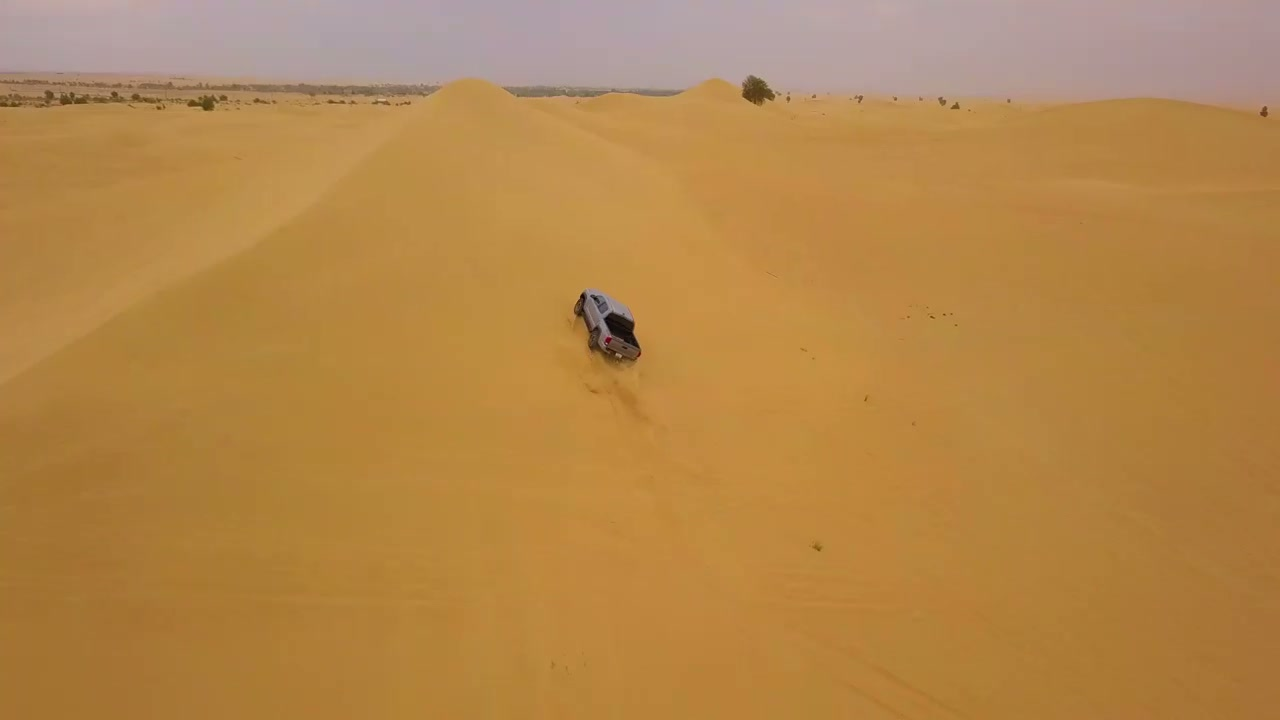vehicle_track: (756, 618, 982, 719)
